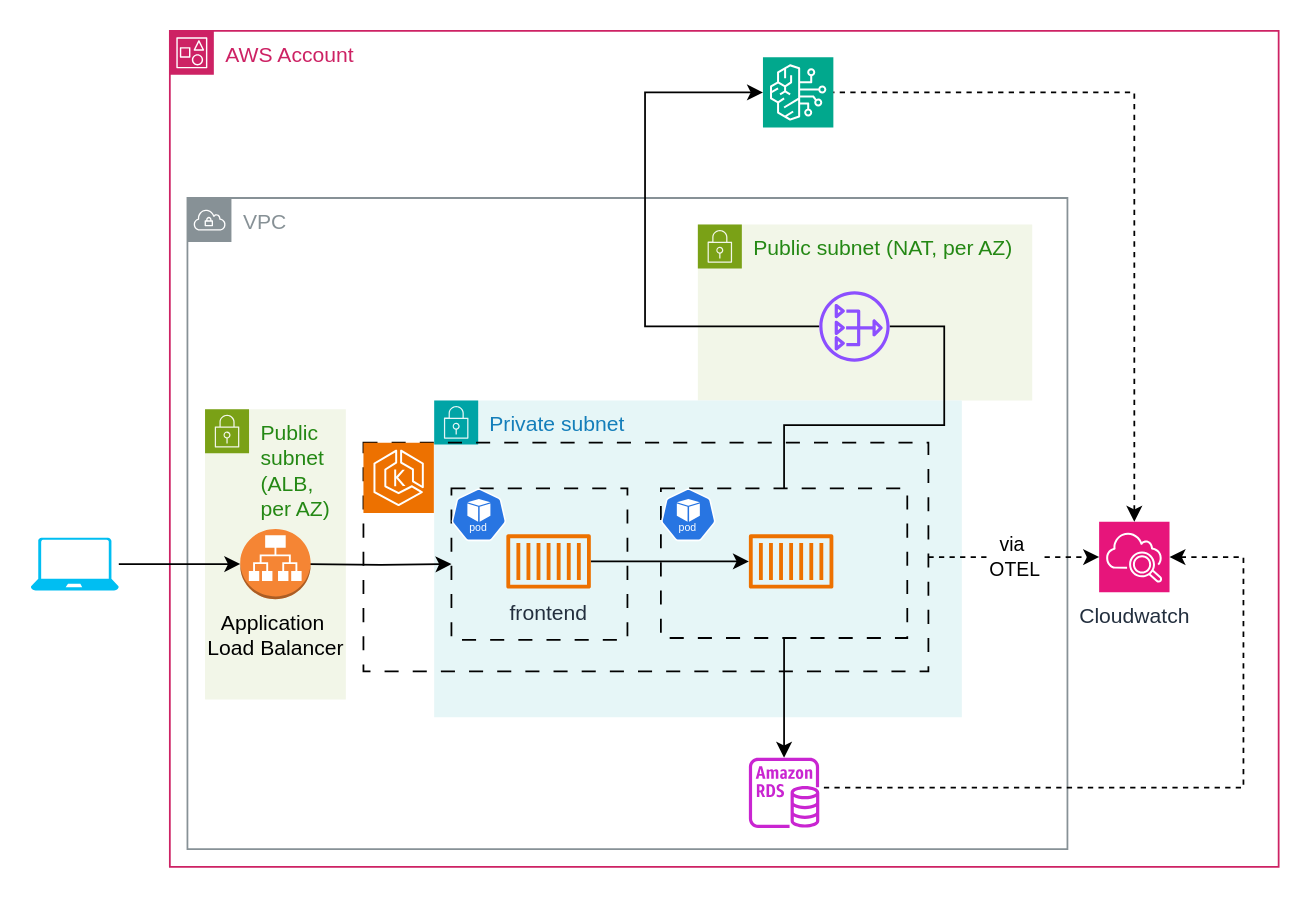
Some shapes in this 1309 by 898 pixel diagram are drawn without their labels. Here are the shapes that lost their labels. From the top down, the centre of each, then its label:
At (x=797, y=91): "Bedrock".
At (x=853, y=325): "NAT Gateway".
At (x=74, y=563): "Users".
At (x=790, y=560): "agentic-microservice".
